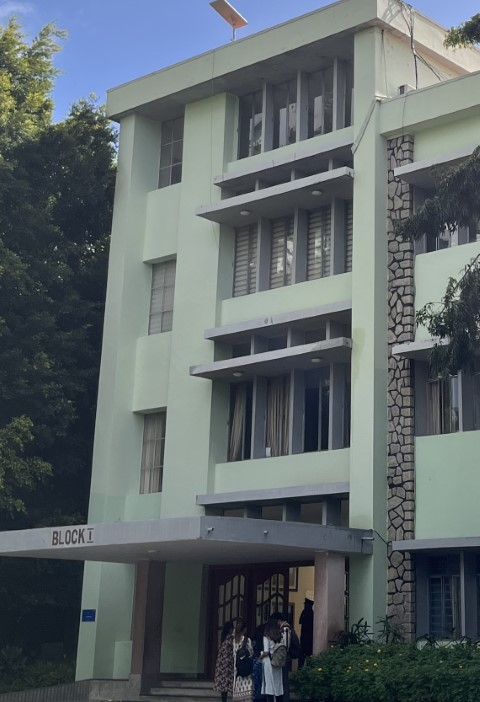Block 1: (110, 25, 480, 702)
